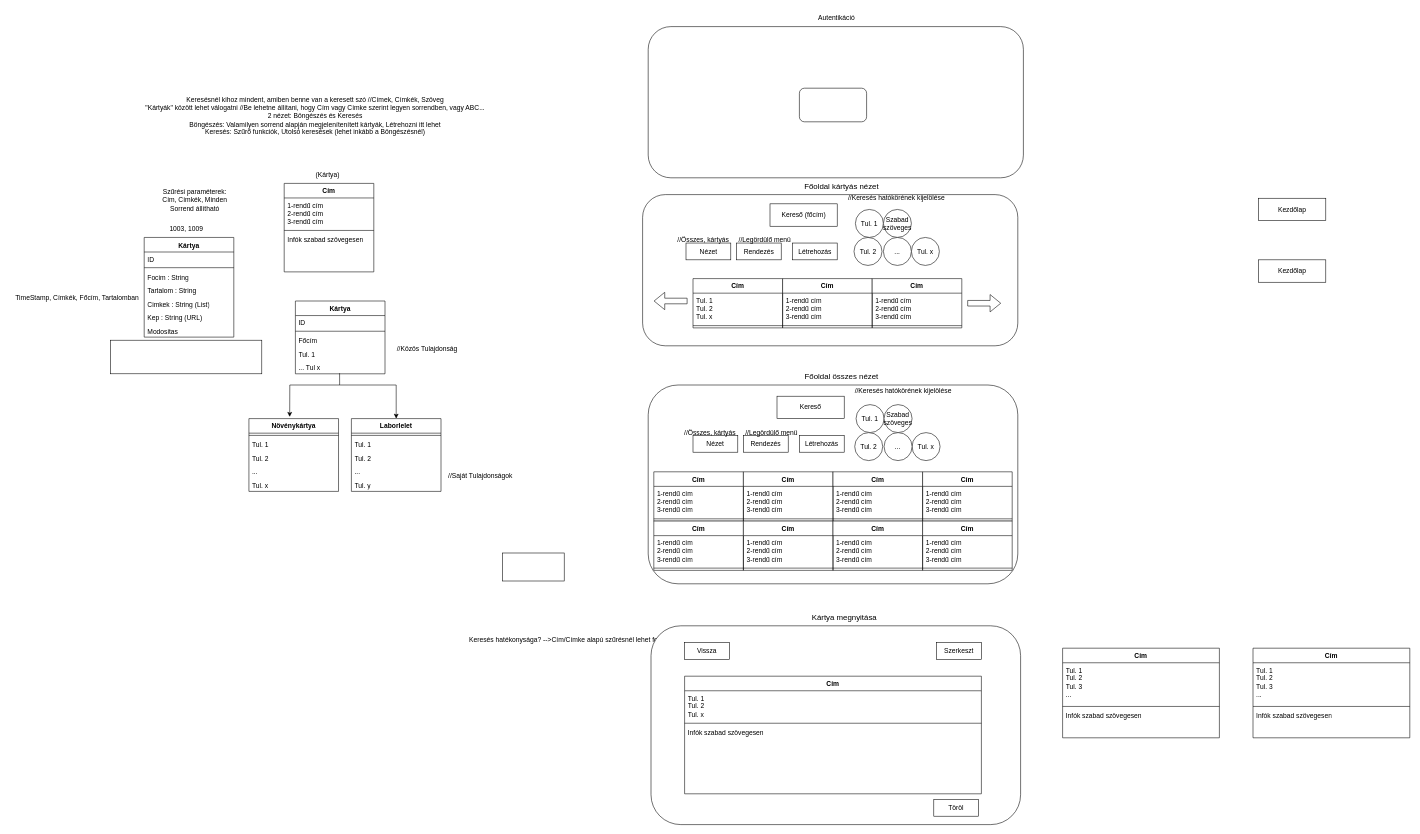
Some shapes in this 1420 by 834 pixel diagram are drawn without their labels. Each missing label, with the centre of its shape:
"Jelszó" belongs at (x=833, y=105).
"List of Titles and Sub-Titles" belongs at (x=533, y=566).
"String Cimkek = Máj;C-vitamin;Bogyó;Babóca" belongs at (x=186, y=357).
